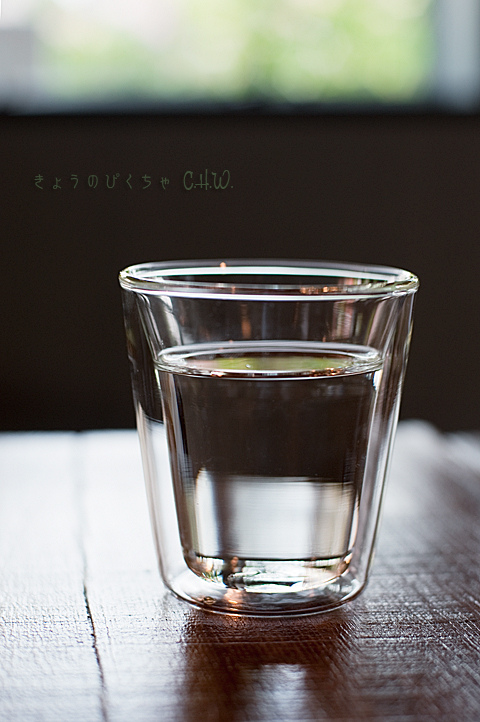glass of water: (116, 245, 417, 622)
